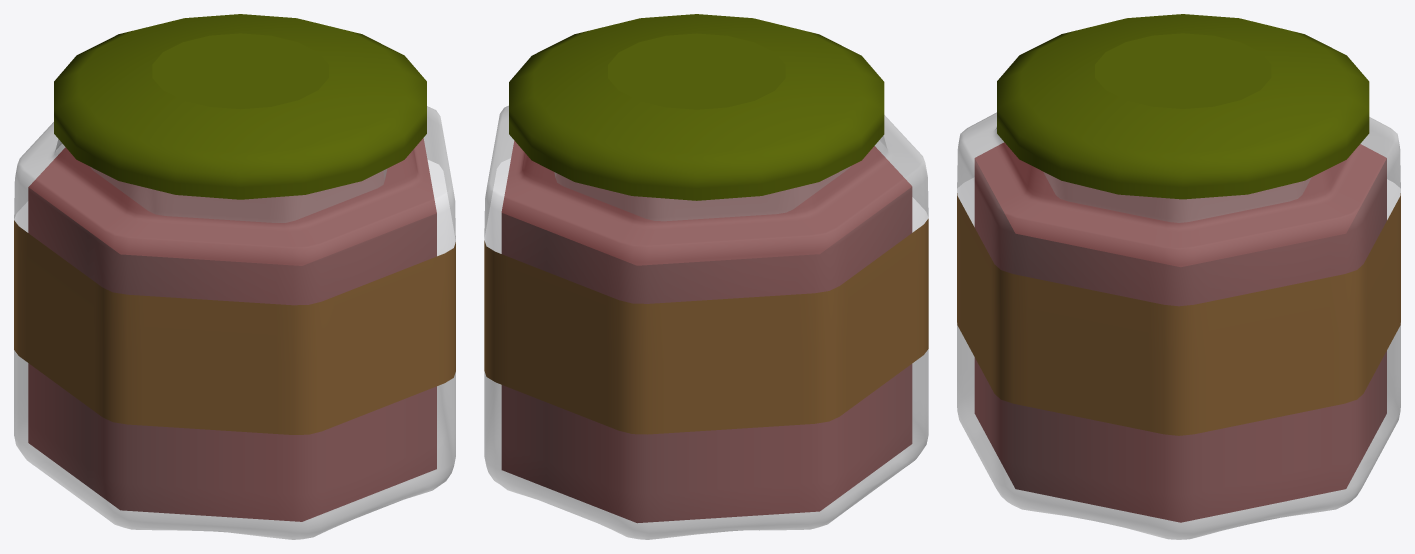
The model's file is 9cf5cd6d-138e-4534-b35e-89751534cbcd.glb.
The picture shows the model from 3 angles, left to right: view 1: azimuth 30°, elevation 25°; view 2: azimuth 150°, elevation 25°; view 3: azimuth 270°, elevation 25°; orthographic projection.
Visible parts, largest first — view 1: Cylinder001, Cylinder003, Cylinder002; view 2: Cylinder001, Cylinder003, Cylinder002; view 3: Cylinder001, Cylinder003, Cylinder002.
Boxes of the visible parts, x1=… form: Cylinder001: x1=14, y1=106, x2=455, y2=539; Cylinder003: x1=28, y1=138, x2=436, y2=521; Cylinder002: x1=54, y1=14, x2=426, y2=199; Cylinder001: x1=484, y1=106, x2=928, y2=539; Cylinder003: x1=501, y1=141, x2=912, y2=522; Cylinder002: x1=509, y1=14, x2=884, y2=200; Cylinder001: x1=957, y1=112, x2=1400, y2=539; Cylinder003: x1=974, y1=142, x2=1386, y2=522; Cylinder002: x1=997, y1=14, x2=1369, y2=199.
Bounding box in the file's own units: 38.82 × 37.57 × 39.52.
